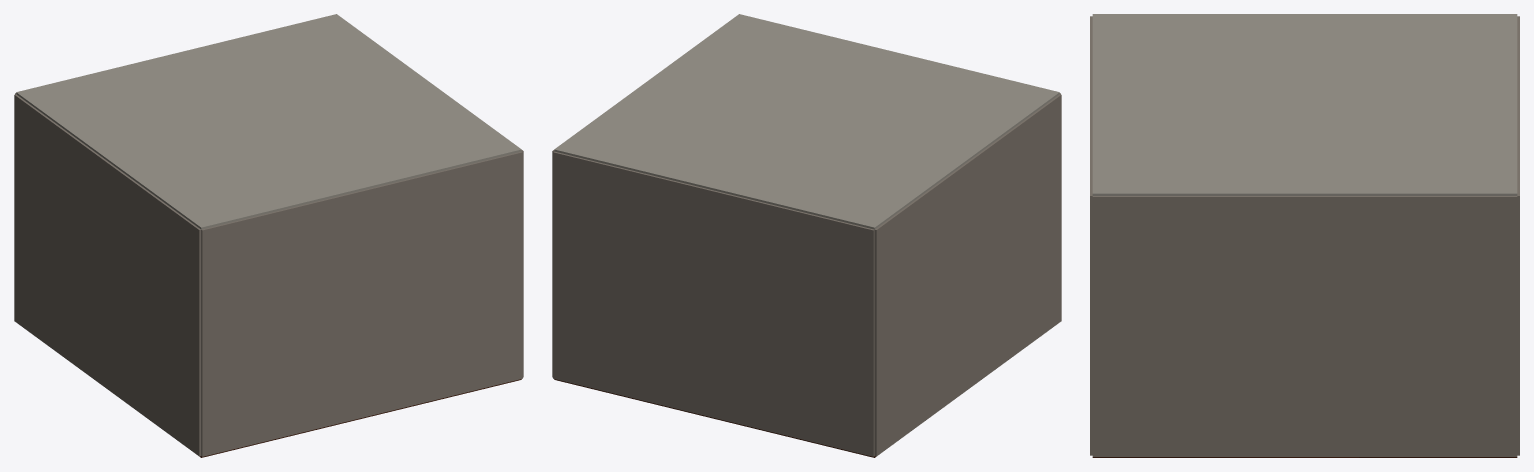
Rendered from room_chirho.glb.
3 renders of one model, left to right at view 1: azimuth 30°, elevation 25°; view 2: azimuth 150°, elevation 25°; view 3: azimuth 270°, elevation 25°, orthographic. The views are drawn at different scales.
Visible parts, largest first — view 1: room_front_wall_chirho, room_ceiling_chirho, room_left_wall_chirho; view 2: room_rear_wall_chirho, room_ceiling_chirho, room_left_wall_chirho; view 3: room_right_wall_chirho, room_ceiling_chirho, room_front_wall_chirho, room_rear_wall_chirho.
Boxes of the visible parts, bbox=[...] form: room_front_wall_chirho: bbox=[201, 151, 522, 456]; room_ceiling_chirho: bbox=[16, 14, 521, 229]; room_left_wall_chirho: bbox=[14, 94, 201, 456]; room_rear_wall_chirho: bbox=[553, 151, 874, 456]; room_ceiling_chirho: bbox=[554, 14, 1059, 229]; room_left_wall_chirho: bbox=[874, 94, 1061, 456]; room_right_wall_chirho: bbox=[1092, 196, 1517, 456]; room_ceiling_chirho: bbox=[1092, 14, 1517, 195]; room_front_wall_chirho: bbox=[1090, 16, 1092, 455]; room_rear_wall_chirho: bbox=[1517, 16, 1519, 455].
Size of the model in its own units: 40.48 by 27.48 by 40.48.
Materials: 40 (6 with a texture image).
